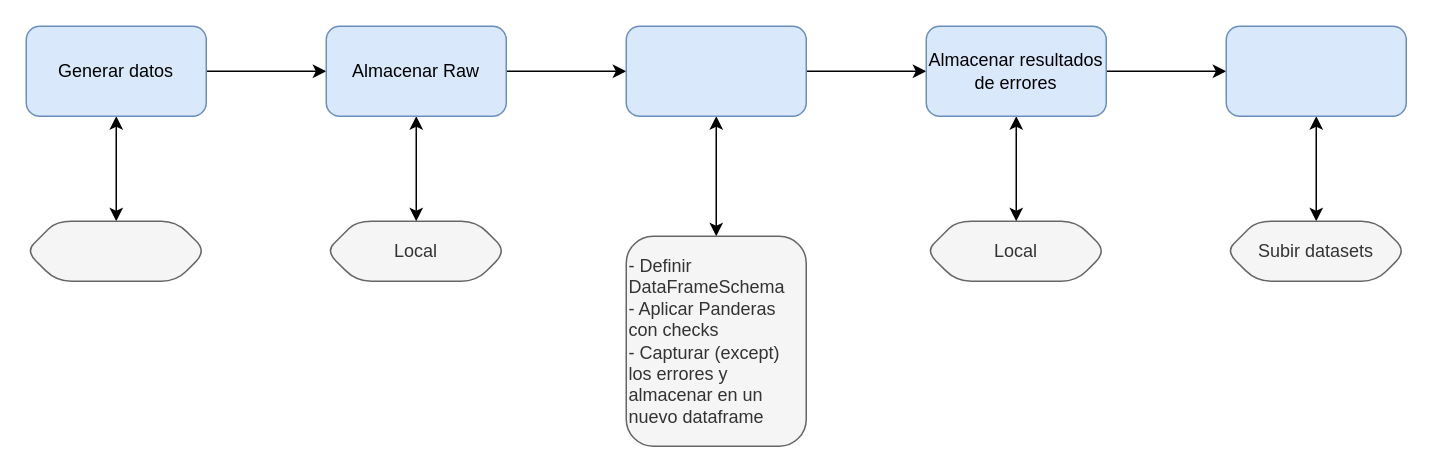
Some shapes in this 1433 by 473 pixel diagram are drawn without their labels. Here are the shapes that lost their labels. From the top down, the box of each, then its label:
(625, 25, 806, 116): Data quality
(1225, 25, 1406, 116): Desplegar en streamlit
(25, 220, 206, 281): Tweets dummy: ChatGPT
